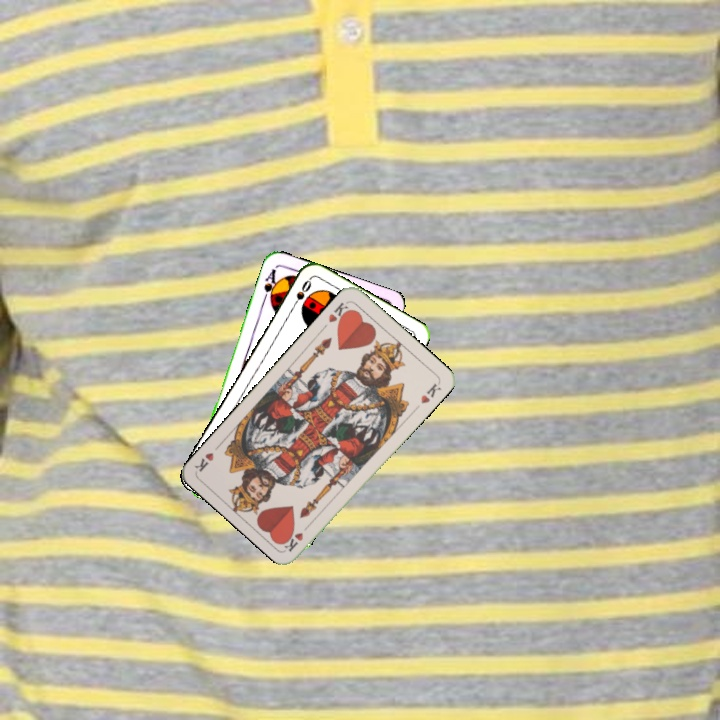HK: (280, 519, 314, 554), (324, 298, 354, 327)
SA: (259, 264, 281, 306)
SO: (287, 275, 314, 312)
